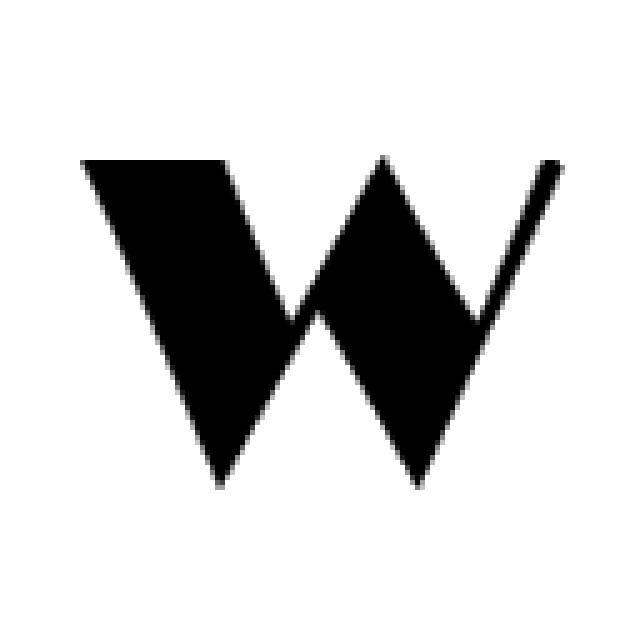W: (62, 154, 609, 476)
